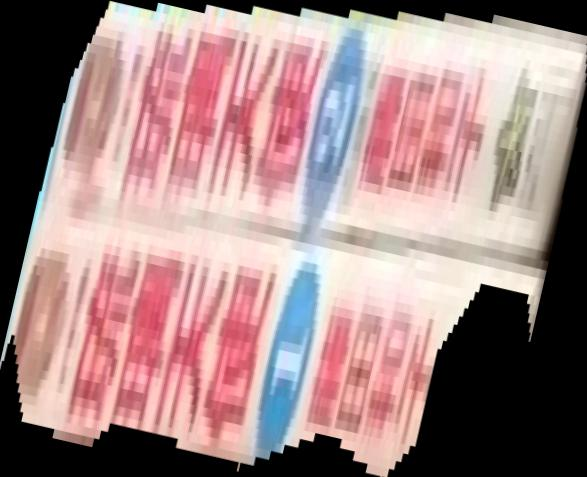flat: (1, 1, 587, 477)
